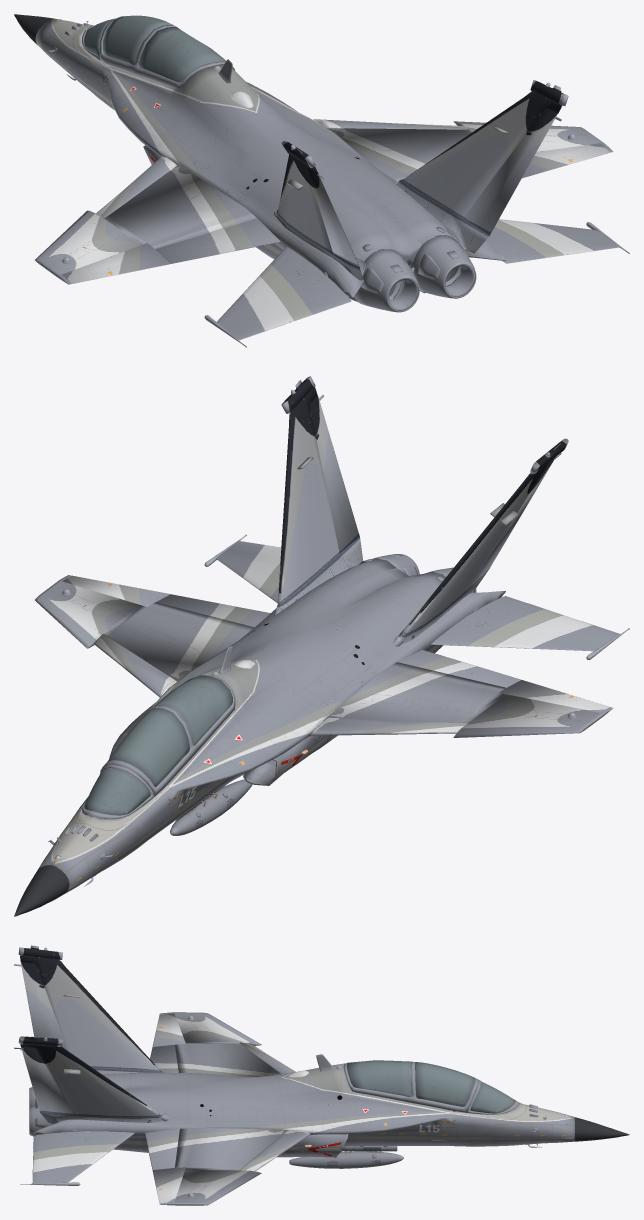
The model's file is l15_low_double-4.glb.
3 views of the same model, one above another, from view 1: azimuth 30°, elevation 25°; view 2: azimuth 150°, elevation 25°; view 3: azimuth 270°, elevation 25° (orthographic). The views are drawn at different scales.
Parts seen in each view (by area): view 1: Object_2, Object_3; view 2: Object_2, Object_3; view 3: Object_2, Object_3.
Boxes of the visible parts, x1=… form: Object_2: x1=14, y1=14, x2=629, y2=347; Object_3: x1=19, y1=15, x2=629, y2=347; Object_2: x1=14, y1=376, x2=629, y2=916; Object_3: x1=19, y1=380, x2=605, y2=908; Object_2: x1=14, y1=947, x2=629, y2=1205; Object_3: x1=30, y1=945, x2=621, y2=1205.
Size of the model in its own units: 215 by 92.72 by 292.
1 material, 1 textured.
